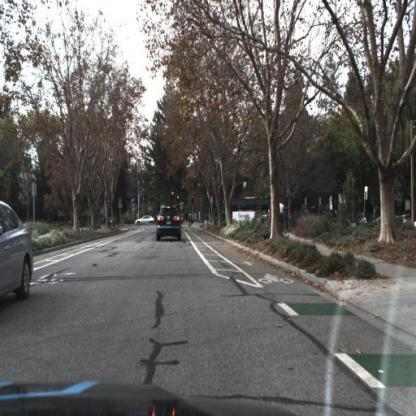biker: (187, 211, 194, 230)
car: (1, 199, 35, 311), (156, 203, 183, 243), (90, 211, 114, 228)
pedestrian: (278, 202, 286, 232)
truck: (223, 194, 280, 226), (222, 196, 279, 221)
